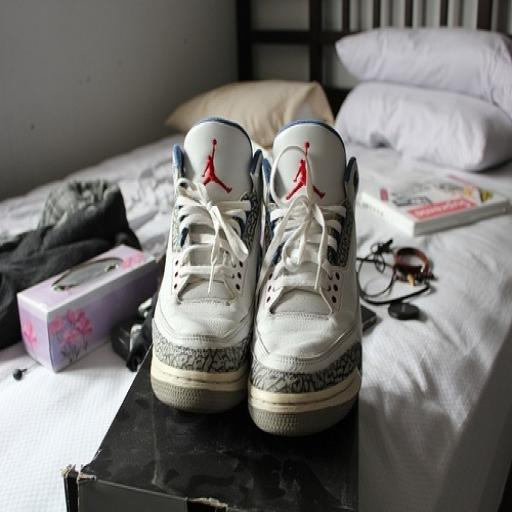shoe: (248, 122, 361, 435), (151, 118, 262, 412)
